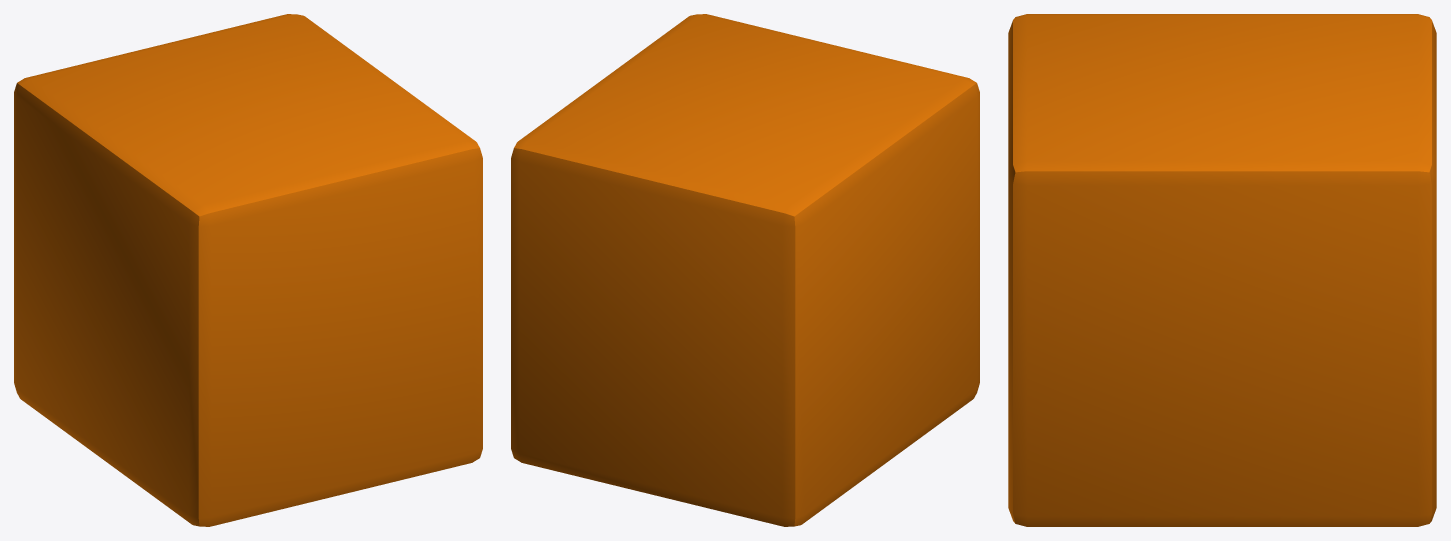
Rendered from SM_Cardboard001.fbx.
The picture shows the model from 3 angles, left to right: view 1: azimuth 30°, elevation 25°; view 2: azimuth 150°, elevation 25°; view 3: azimuth 270°, elevation 25°; orthographic projection. The views are drawn at different scales.
Visible parts, largest first — view 1: SM_Cardboard001; view 2: SM_Cardboard001; view 3: SM_Cardboard001.
Boxes of the visible parts, x1=… form: SM_Cardboard001: x1=14, y1=14, x2=482, y2=526; SM_Cardboard001: x1=511, y1=14, x2=979, y2=526; SM_Cardboard001: x1=1008, y1=14, x2=1436, y2=526.
Bounding box in the file's own units: 120 × 125 × 135.
